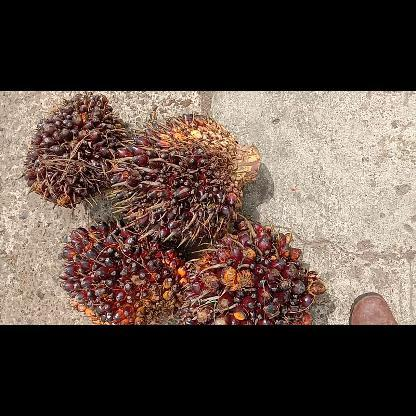Kurang masak: (111, 108, 263, 248), (172, 216, 326, 324), (56, 216, 186, 324), (20, 90, 130, 209)
